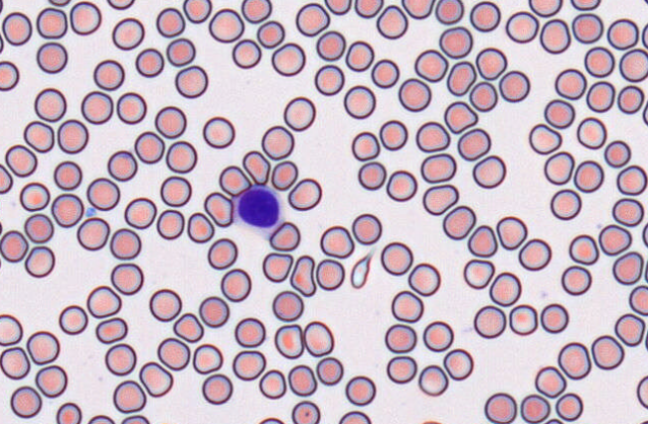MONO: (231, 184, 291, 238)
PLT: (83, 207, 97, 220)
RBC: (557, 341, 591, 379), (138, 361, 173, 397), (208, 8, 244, 42), (295, 2, 330, 36), (591, 334, 624, 370), (112, 379, 146, 413), (271, 42, 305, 76), (472, 154, 506, 188), (86, 285, 121, 318), (261, 125, 294, 160), (287, 177, 322, 210), (319, 225, 354, 258), (422, 183, 458, 215), (398, 77, 431, 111), (443, 100, 477, 133), (505, 10, 539, 43), (414, 49, 448, 82), (51, 193, 84, 227), (442, 205, 475, 239), (26, 330, 59, 364), (174, 65, 208, 98), (86, 177, 120, 210), (80, 90, 113, 124), (407, 262, 440, 296), (380, 241, 413, 275), (34, 87, 66, 122), (539, 18, 571, 53), (69, 0, 101, 35), (489, 271, 521, 306), (283, 96, 315, 131), (343, 84, 375, 119), (303, 320, 334, 356), (457, 127, 490, 160), (111, 17, 144, 50), (110, 262, 143, 295), (157, 337, 190, 370), (149, 288, 182, 321), (473, 305, 506, 338), (76, 217, 109, 250), (376, 4, 407, 39), (496, 215, 527, 250), (415, 121, 450, 152), (446, 60, 476, 96), (420, 153, 456, 183), (534, 365, 566, 398), (475, 47, 507, 80), (154, 105, 186, 138), (35, 364, 67, 397), (5, 144, 37, 177), (439, 26, 472, 58), (518, 238, 551, 270), (165, 140, 197, 173), (10, 385, 42, 418), (202, 116, 235, 148), (543, 151, 574, 185), (1, 11, 32, 45), (57, 119, 88, 153), (220, 268, 251, 302), (274, 323, 304, 358), (498, 70, 530, 102), (391, 290, 423, 322), (124, 197, 156, 229), (109, 227, 141, 259), (104, 343, 136, 375), (528, 123, 561, 154), (598, 224, 631, 255), (612, 251, 643, 284), (614, 313, 645, 346), (232, 350, 266, 380), (386, 169, 417, 201), (573, 160, 604, 192), (469, 0, 500, 32), (36, 41, 67, 73), (554, 68, 586, 99), (23, 120, 54, 152), (606, 18, 638, 49), (550, 188, 581, 220), (24, 245, 55, 277), (198, 295, 229, 327), (484, 392, 516, 423), (0, 346, 30, 379), (576, 116, 606, 149), (116, 91, 146, 124), (467, 224, 497, 257), (134, 131, 164, 164), (192, 343, 223, 374), (463, 258, 494, 289), (93, 59, 124, 90), (36, 7, 67, 38), (616, 164, 647, 195), (201, 373, 232, 404), (160, 175, 191, 206), (422, 320, 453, 351), (272, 290, 303, 321), (172, 312, 204, 342), (418, 364, 448, 396), (443, 348, 473, 380), (571, 13, 603, 43), (207, 237, 237, 269), (287, 364, 317, 396), (384, 323, 416, 353), (619, 48, 647, 82), (58, 304, 88, 335), (262, 252, 293, 282), (19, 181, 50, 211), (315, 30, 345, 61), (345, 375, 375, 406), (314, 64, 344, 95), (584, 46, 614, 77), (107, 150, 137, 181), (568, 234, 598, 265), (234, 317, 265, 347), (544, 98, 575, 128), (351, 213, 381, 244), (586, 80, 615, 112), (612, 197, 644, 226), (315, 258, 344, 290), (0, 229, 28, 262), (155, 7, 185, 37), (520, 393, 550, 423), (231, 38, 261, 68), (561, 265, 591, 295), (23, 213, 53, 243), (508, 304, 537, 335), (345, 40, 374, 71), (95, 316, 127, 344), (53, 160, 82, 190), (351, 131, 380, 161), (135, 47, 164, 77), (386, 355, 417, 383), (379, 119, 407, 150), (357, 161, 386, 190), (166, 37, 195, 66), (371, 58, 399, 88), (469, 81, 497, 111), (258, 369, 286, 399), (156, 209, 184, 239), (540, 303, 568, 333), (187, 212, 214, 243), (256, 20, 285, 48), (555, 392, 583, 421), (271, 160, 298, 190), (617, 84, 644, 114), (316, 356, 343, 385), (0, 313, 23, 345), (604, 140, 631, 167), (241, 0, 271, 23), (435, 0, 463, 24), (182, 0, 211, 23), (291, 400, 320, 423), (401, 0, 433, 19), (0, 60, 19, 91), (628, 284, 647, 315), (528, 0, 562, 17), (55, 402, 82, 423), (354, 0, 383, 18), (338, 410, 371, 423), (324, 0, 351, 15), (0, 163, 13, 194), (636, 375, 647, 408), (570, 0, 601, 10), (106, 0, 134, 10), (120, 414, 149, 423), (87, 414, 115, 423), (641, 22, 648, 49), (257, 416, 284, 423), (642, 99, 648, 125), (642, 221, 648, 247), (47, 0, 71, 6), (542, 417, 564, 423), (418, 419, 444, 424), (644, 258, 648, 283), (644, 327, 648, 351), (0, 33, 4, 53), (0, 0, 3, 13), (642, 0, 648, 4)
Schistocyte: (288, 252, 319, 298), (351, 247, 376, 290), (204, 192, 235, 226), (218, 165, 253, 195), (243, 150, 271, 186)
